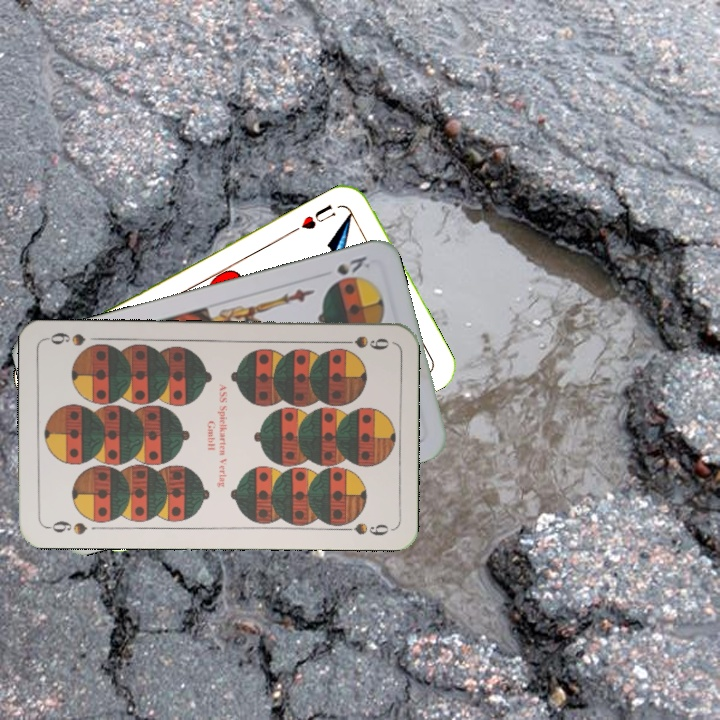HU: (297, 200, 339, 232)
S9: (334, 332, 392, 353), (42, 517, 89, 537)
SK: (332, 252, 373, 278)
